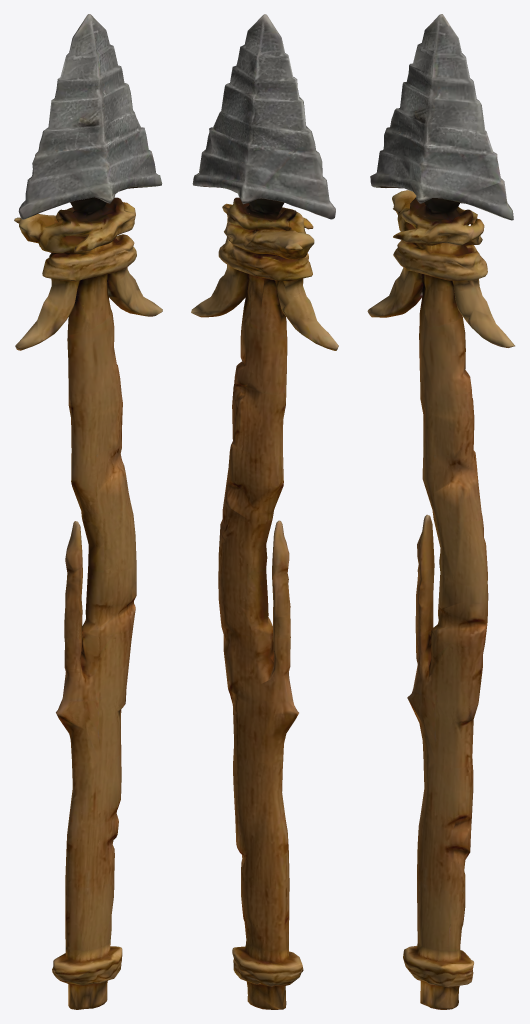
Rendered from lanza.glb.
3 renders of one model, left to right at view 1: azimuth 30°, elevation 25°; view 2: azimuth 150°, elevation 25°; view 3: azimuth 330°, elevation 25°, orthographic.
Parts seen in each view (by area): view 1: tripo_node_72ea0c89-cfe2-4796-a8d5-95de34a816ae; view 2: tripo_node_72ea0c89-cfe2-4796-a8d5-95de34a816ae; view 3: tripo_node_72ea0c89-cfe2-4796-a8d5-95de34a816ae.
Part boxes in pixels (box(x1,y1,x2,y2)): tripo_node_72ea0c89-cfe2-4796-a8d5-95de34a816ae: box(14, 14, 162, 1009); tripo_node_72ea0c89-cfe2-4796-a8d5-95de34a816ae: box(191, 14, 338, 1009); tripo_node_72ea0c89-cfe2-4796-a8d5-95de34a816ae: box(367, 14, 514, 1009).
Size of the model in its own units: 0.155 by 0.9998 by 0.0842.
Materials: 1 (1 with a texture image).
